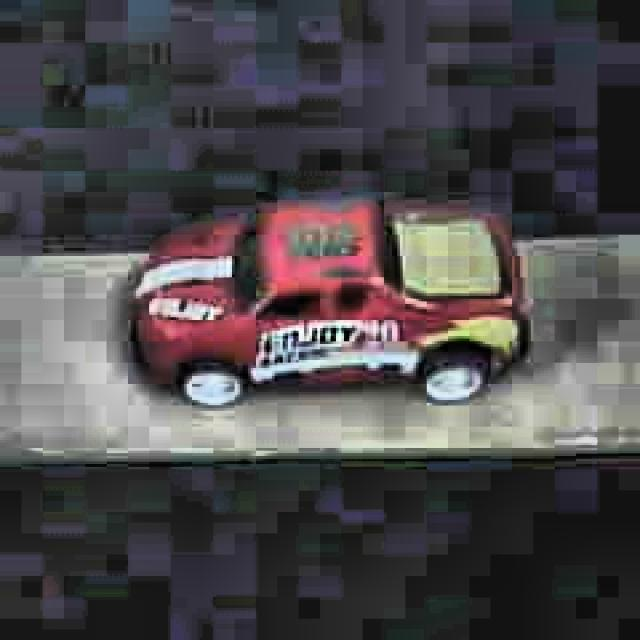car: (130, 194, 533, 405)
